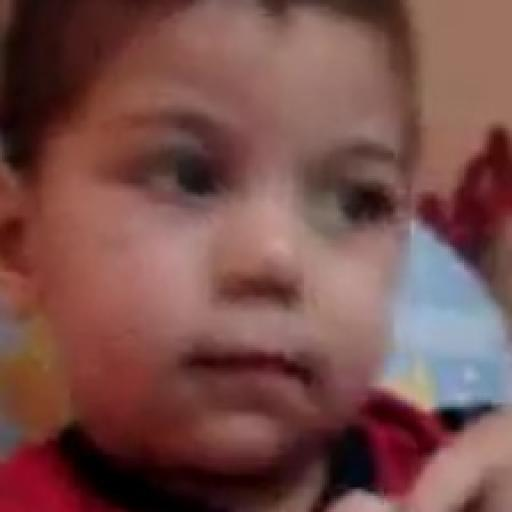Autism: (41, 19, 466, 428)
